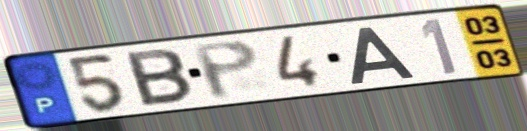1: (417, 16, 459, 77)
4: (275, 33, 323, 90)
5: (64, 50, 128, 116)
A: (348, 24, 419, 86)
B: (122, 47, 196, 109)
P: (188, 38, 262, 102)
